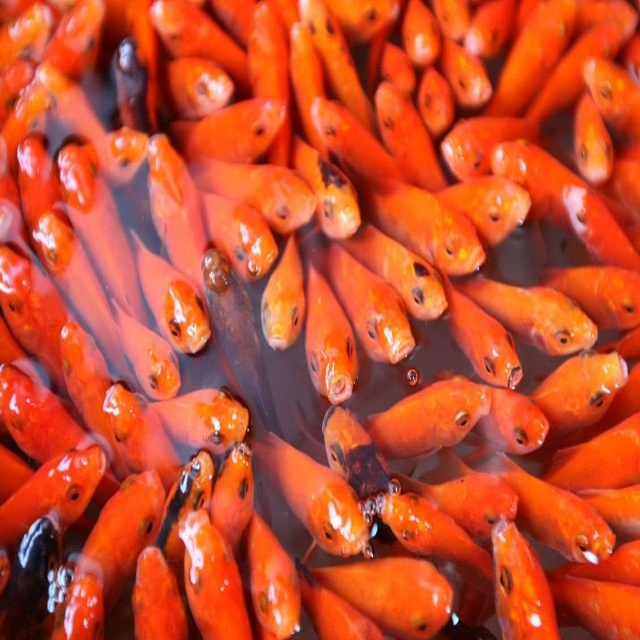Goldfish: (0, 1, 640, 640)
